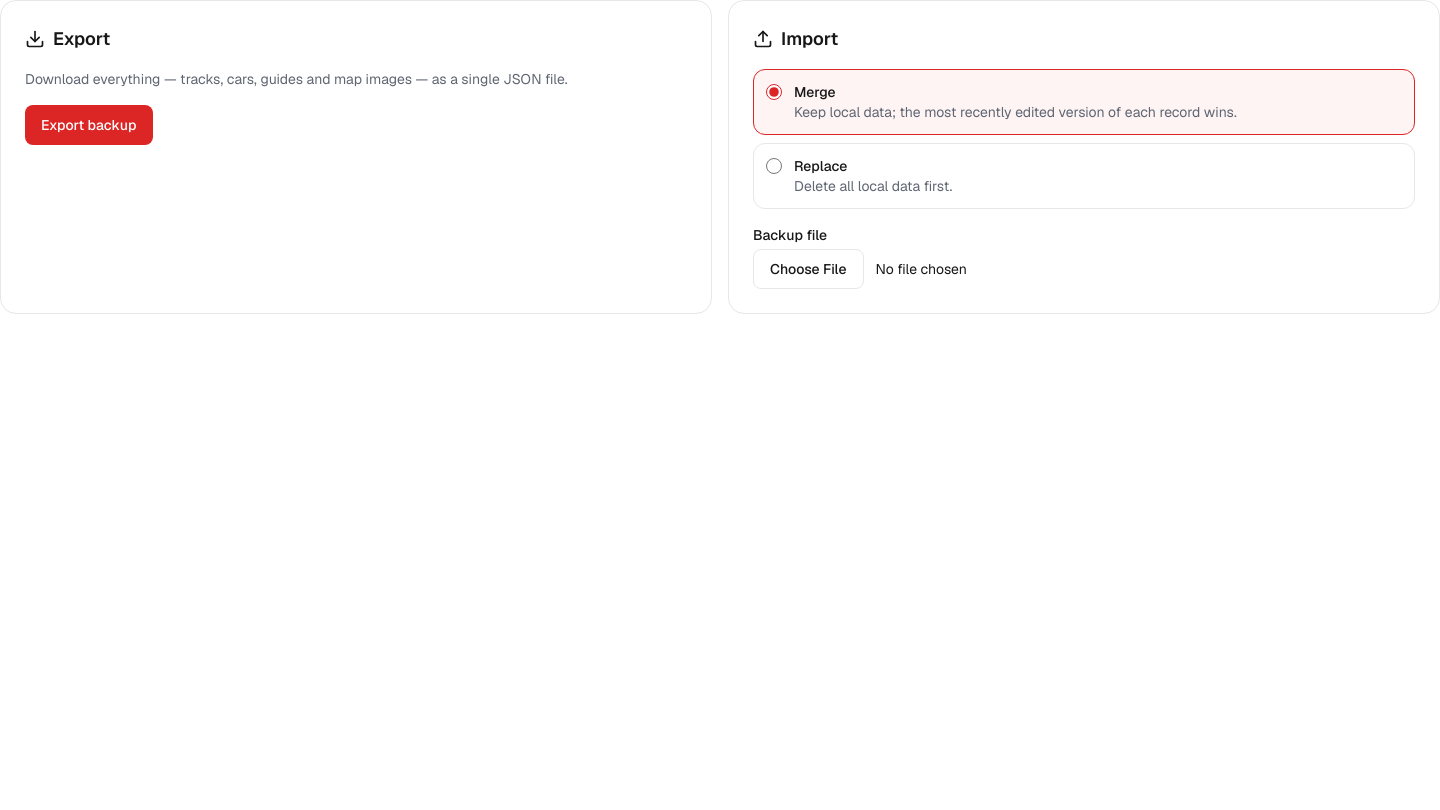
Scenario: BackupPanel › announces a finished export once, in the toast
Click the button "Export backup": (89, 125) left=25, top=105, right=153, bottom=145
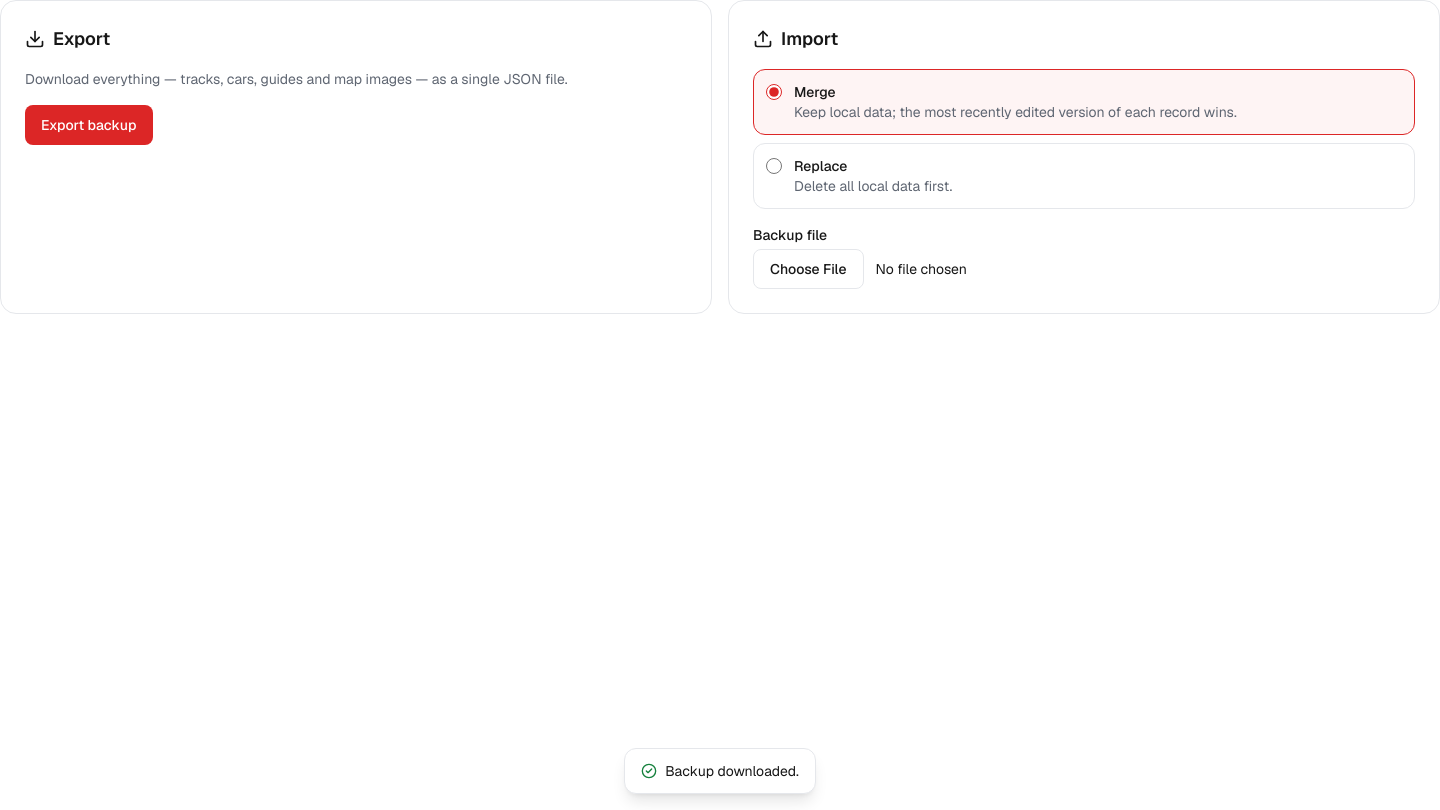
Result: the message reads "Backup downloaded." at left=665, top=762, right=799, bottom=780
Result: the text "Backup downloaded." is shown once at left=624, top=748, right=816, bottom=794
